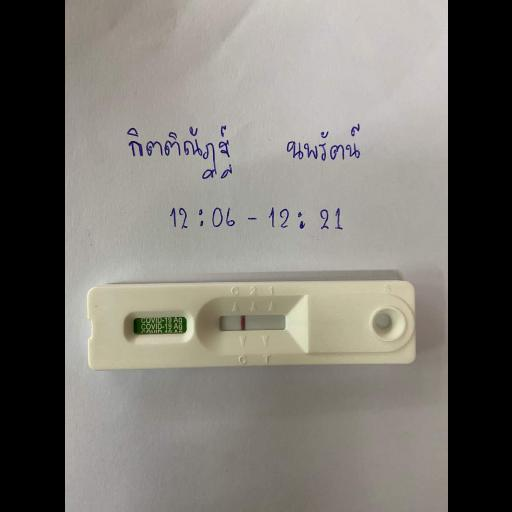Neg: (88, 281, 414, 363)
